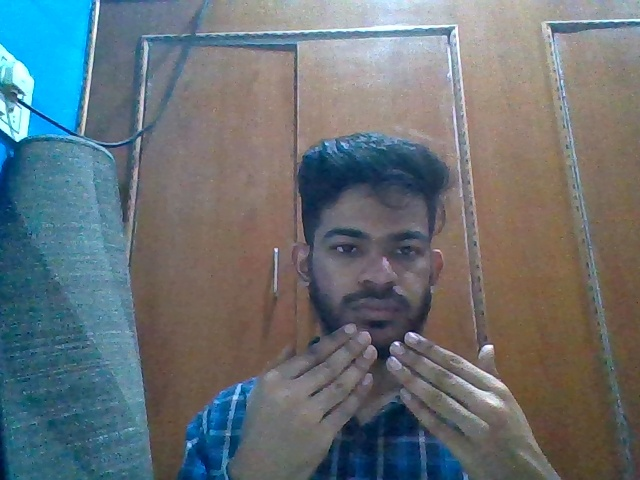thanks: (233, 318, 541, 480)
